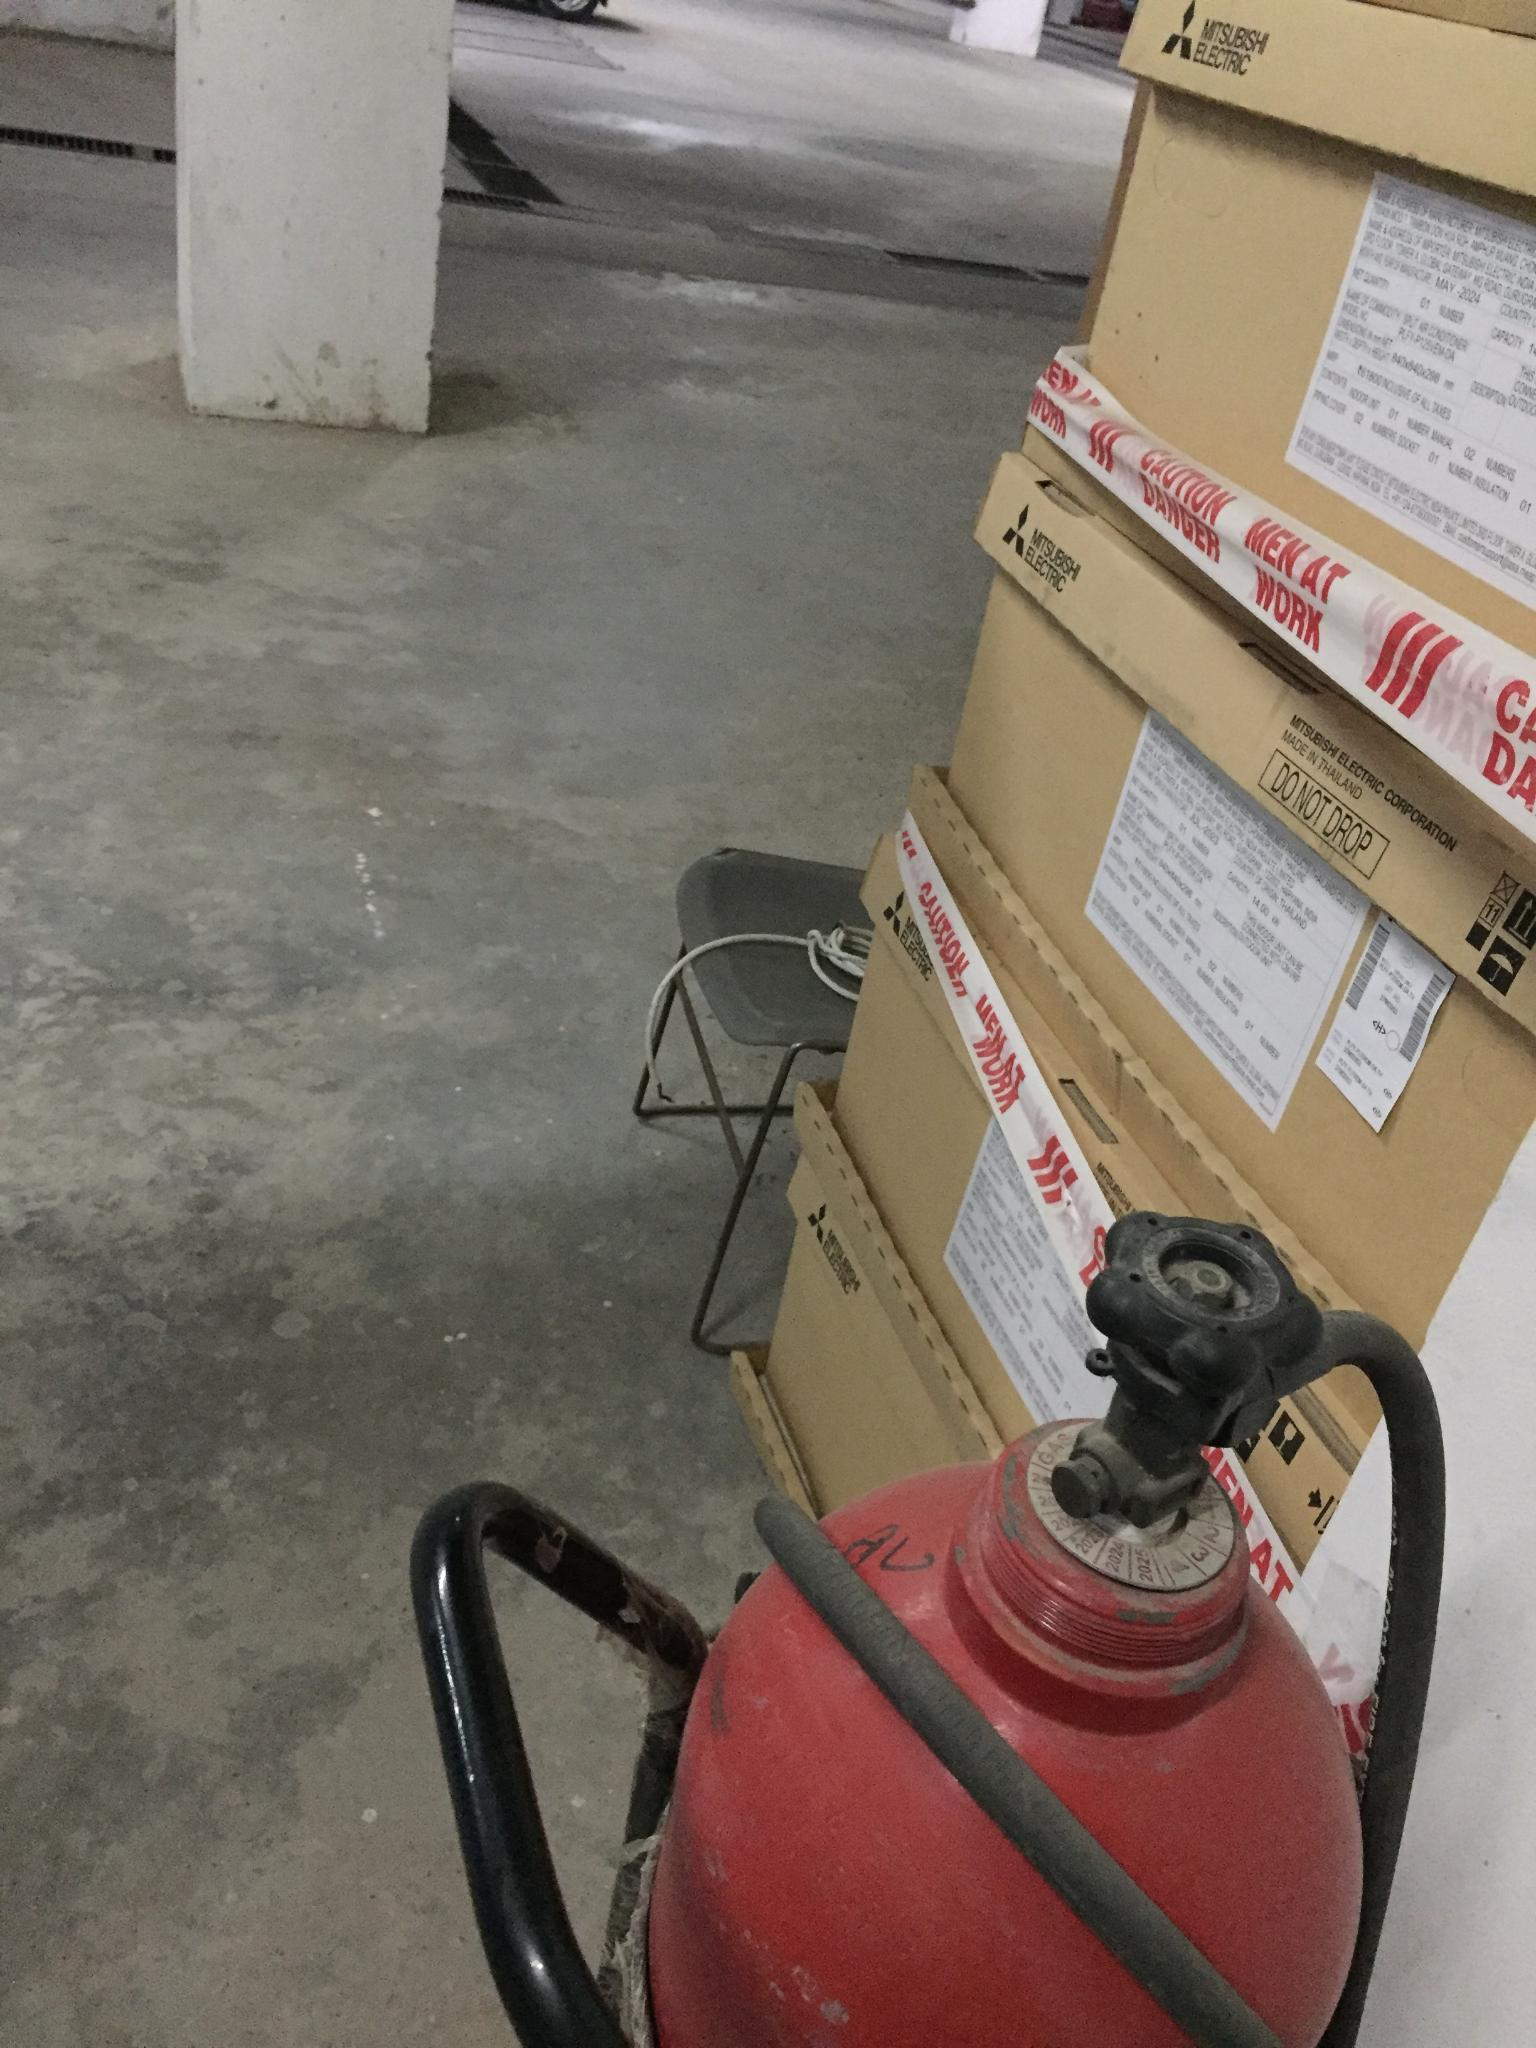chair: (632, 844, 876, 1354)
